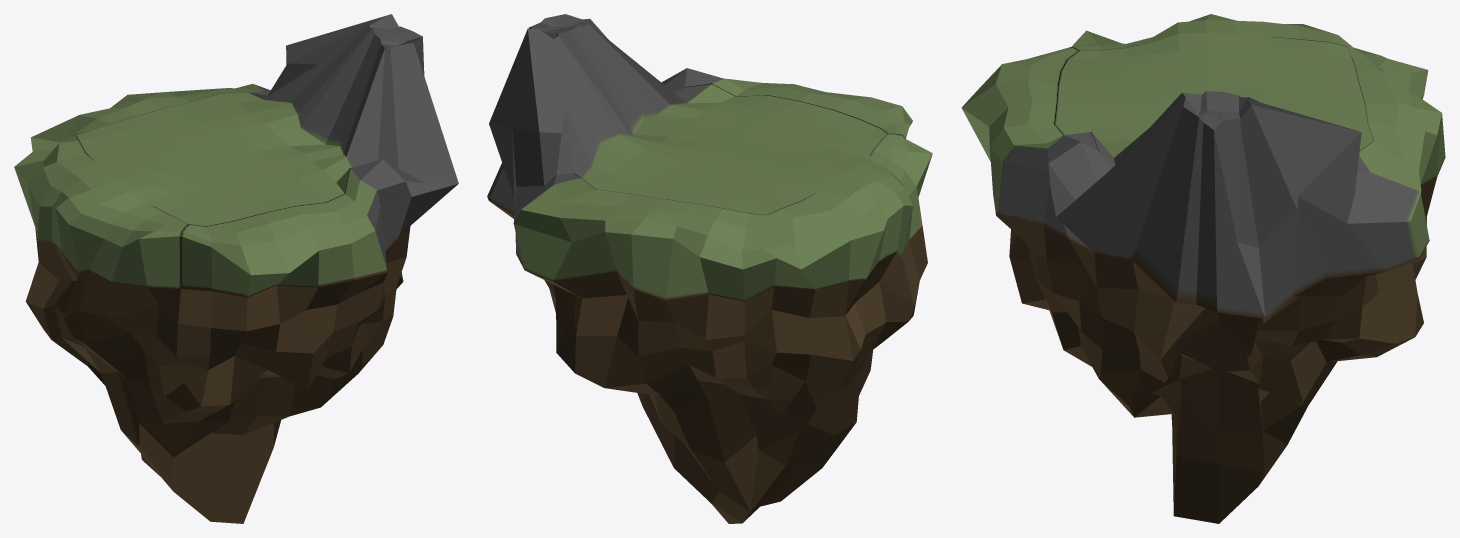
Rendered from Floating Island.glb.
The picture shows the model from 3 angles, left to right: view 1: azimuth 30°, elevation 25°; view 2: azimuth 150°, elevation 25°; view 3: azimuth 270°, elevation 25°; orthographic projection. The views are drawn at different scales.
Parts seen in each view (by area): view 1: Cube.001; view 2: Cube.001; view 3: Cube.001.
Part boxes in pixels (left/top/right/bottom): Cube.001: left=14, top=14, right=458, bottom=523; Cube.001: left=487, top=14, right=932, bottom=523; Cube.001: left=961, top=14, right=1445, bottom=523.
Size of the model in its own units: 4.57 by 5.08 by 4.26.
1 material, 1 textured.
